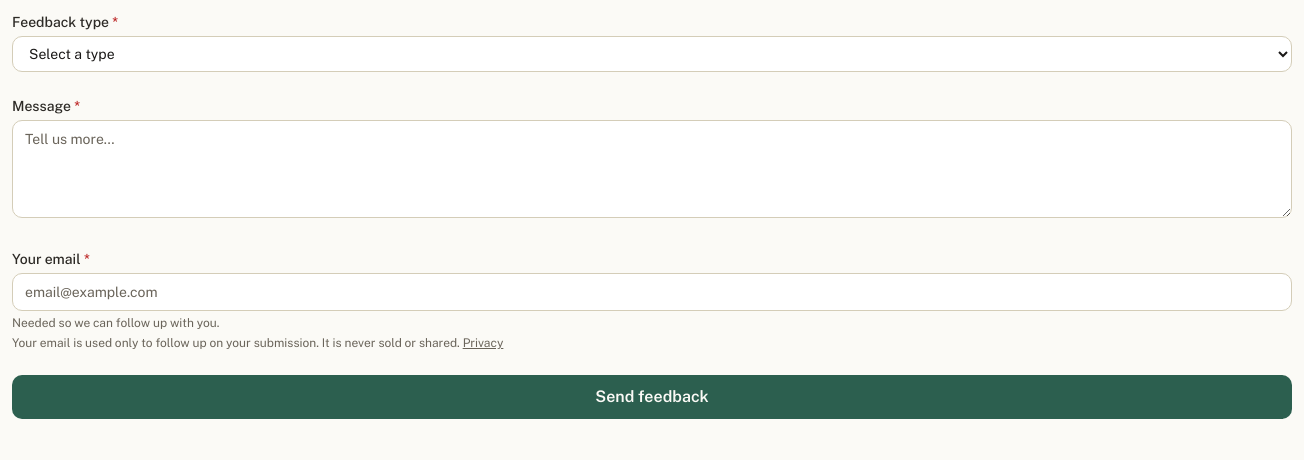
it: FeedbackForm — client validation › shows message error when message is empty
// Select type
Select "Feature request" in the dropdown labelled "Feedback type *": {"x": 652, "y": 54} top-left (12, 36), bottom-right (1292, 72)
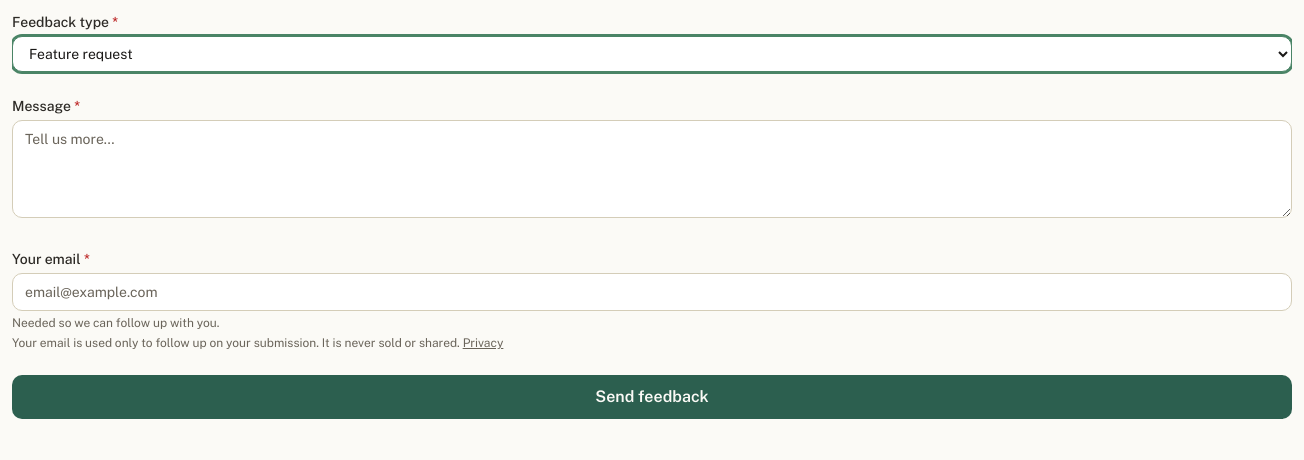
Click the button "Send feedback": {"x": 652, "y": 397} top-left (12, 375), bottom-right (1292, 419)
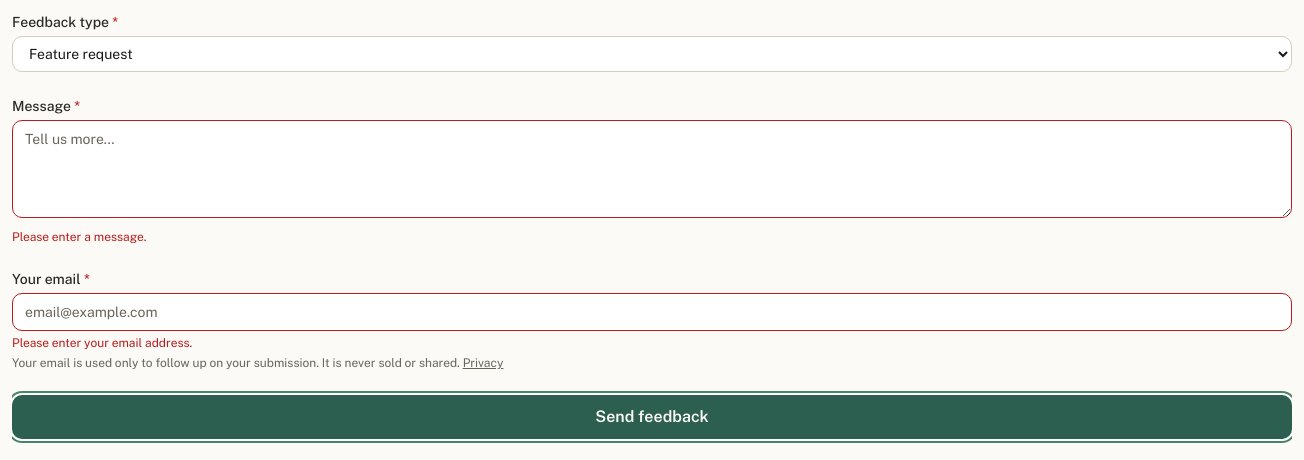
Expected: the text "Please enter a message." is shown, top-left (12, 230), bottom-right (146, 244)
